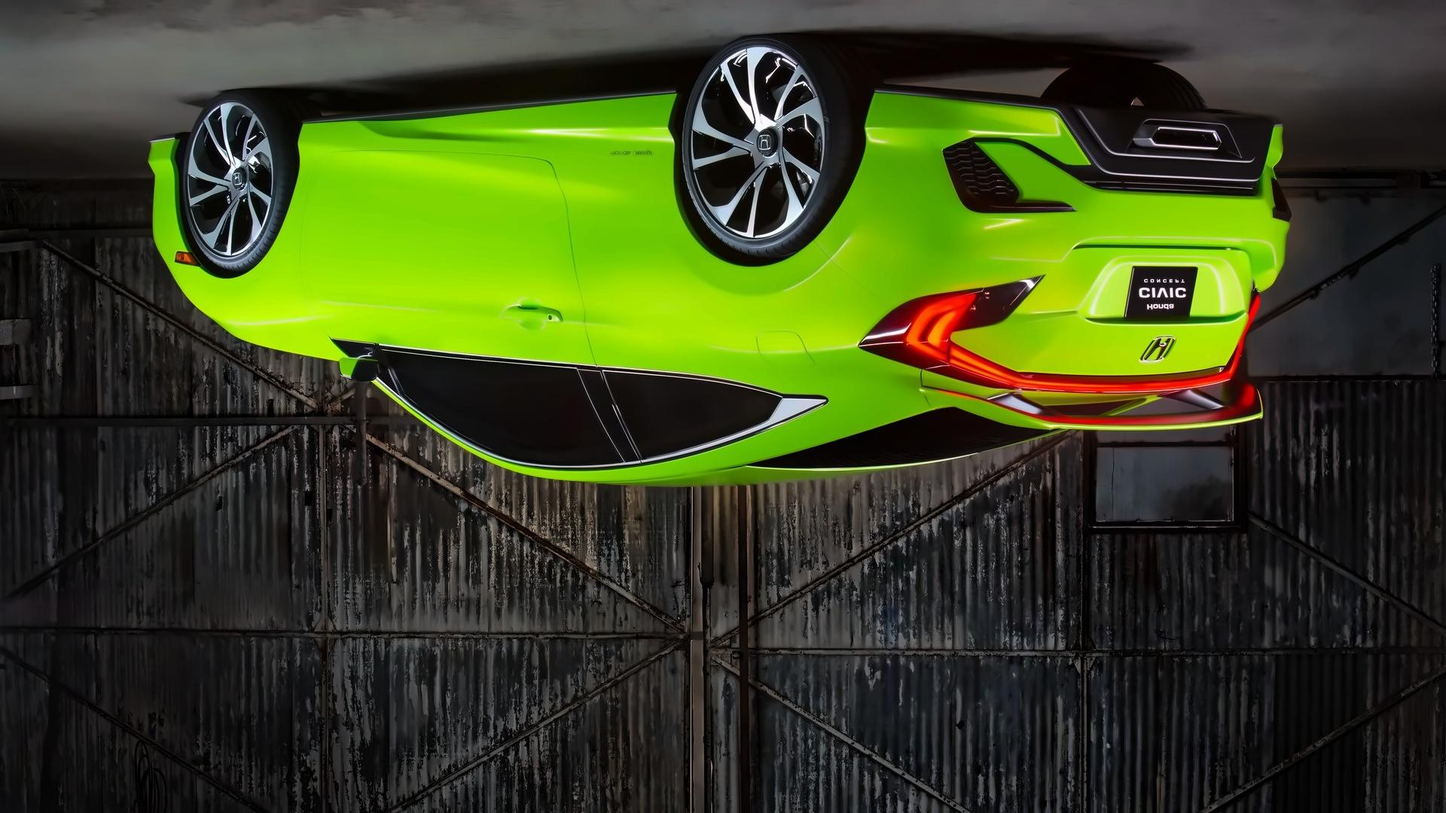Car boot: (910, 235, 1269, 432)
Driver-s door - -F-R-: (276, 87, 657, 480)
Fender - -F-R-: (167, 187, 324, 365)
Fender - -R-R-: (635, 185, 908, 374)
Front bumper: (134, 121, 206, 279)
Rear bumper: (856, 65, 1310, 253)
Rear light - -R-: (289, 62, 697, 224), (857, 272, 1048, 408)
Side mirror - -R-: (332, 345, 389, 391)
